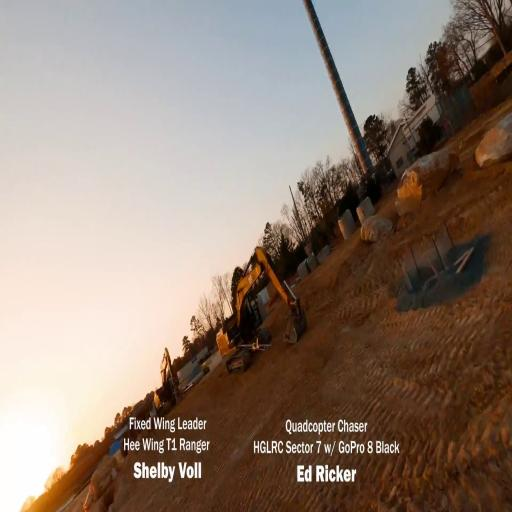uav: (238, 336, 273, 352)
